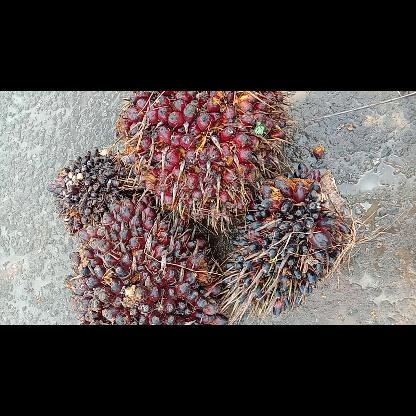Kurang masak: (70, 196, 226, 324)
TBS abnormal: (224, 164, 354, 312), (49, 148, 135, 228)
TBS masak: (115, 91, 287, 225)
